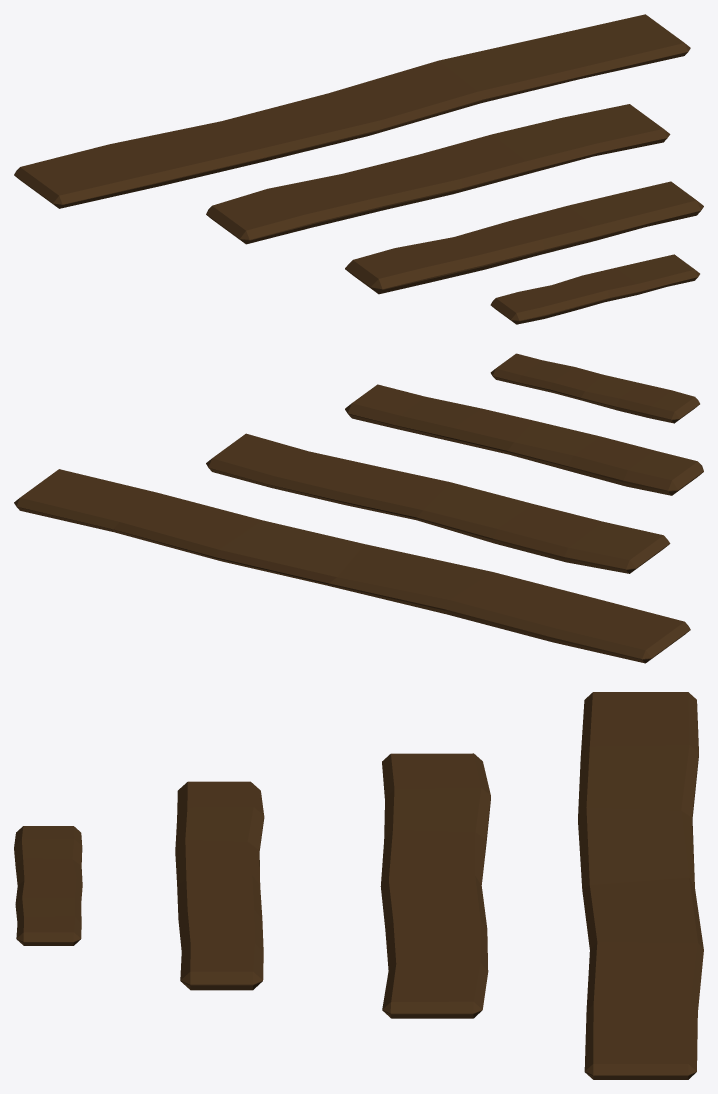
The model's file is Planks.fbx.
3 views of the same model, one above another, from view 1: azimuth 30°, elevation 25°; view 2: azimuth 150°, elevation 25°; view 3: azimuth 270°, elevation 25° (orthographic). The views are drawn at different scales.
Parts seen in each view (by area): view 1: Cube.123, Cube.122, Cube.124, Cube.120; view 2: Cube.123, Cube.122, Cube.124, Cube.120; view 3: Cube.123, Cube.122, Cube.124, Cube.120.
Boxes of the visible parts, x1=… form: Cube.123: x1=14, y1=14, x2=690, y2=208; Cube.122: x1=206, y1=104, x2=670, y2=244; Cube.124: x1=345, y1=181, x2=703, y2=294; Cube.120: x1=490, y1=254, x2=699, y2=324; Cube.123: x1=14, y1=469, x2=690, y2=663; Cube.122: x1=206, y1=433, x2=670, y2=573; Cube.124: x1=345, y1=384, x2=703, y2=495; Cube.120: x1=490, y1=353, x2=699, y2=423; Cube.123: x1=578, y1=692, x2=703, y2=1079; Cube.122: x1=380, y1=753, x2=490, y2=1018; Cube.124: x1=175, y1=781, x2=264, y2=990; Cube.120: x1=14, y1=826, x2=82, y2=945.
Size of the model in its own units: 1350 by 34.39 by 1039.
